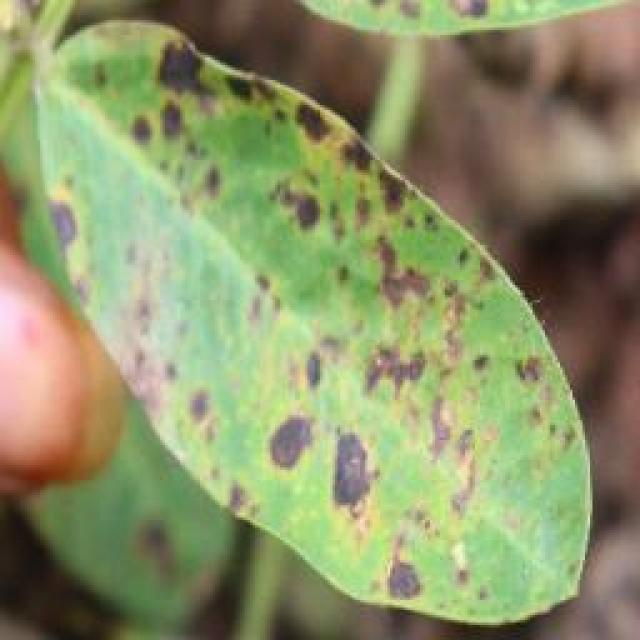Yellowish: (0, 0, 597, 639)
